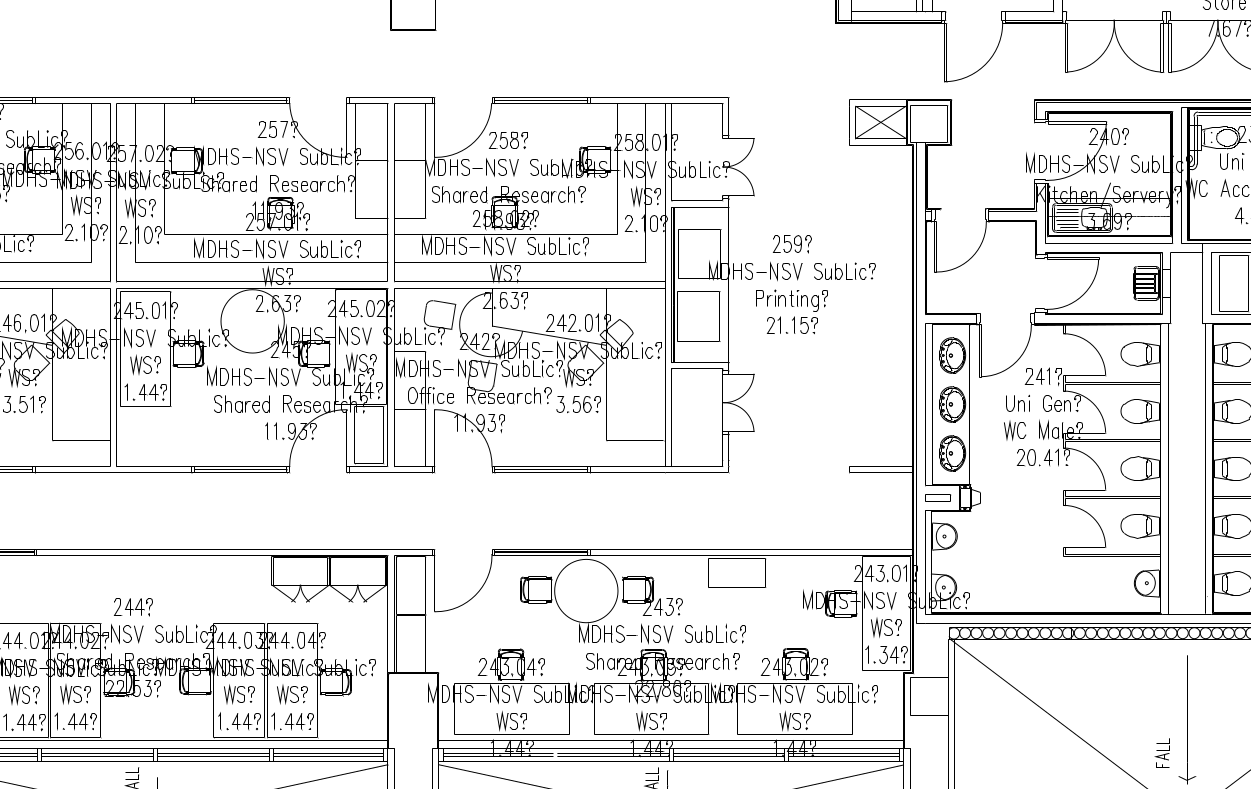door: (1057, 20, 1165, 83), (1164, 20, 1251, 84), (933, 22, 1008, 90), (431, 552, 497, 619), (429, 402, 495, 469), (285, 407, 351, 474), (929, 221, 988, 283), (1043, 253, 1105, 311), (285, 102, 349, 158), (428, 104, 492, 160), (975, 324, 1031, 384), (721, 135, 766, 200), (721, 372, 766, 432), (1058, 500, 1109, 552), (1057, 441, 1108, 493), (1059, 387, 1110, 439), (1059, 328, 1110, 380)
